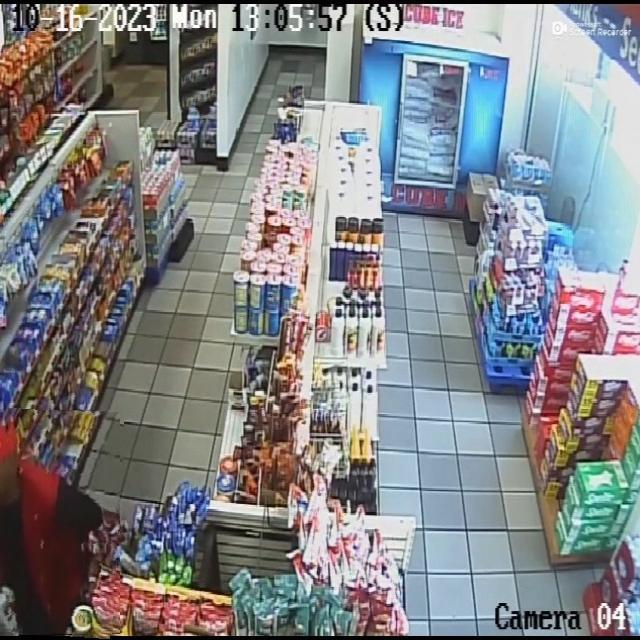Normal: (0, 410, 120, 637)
